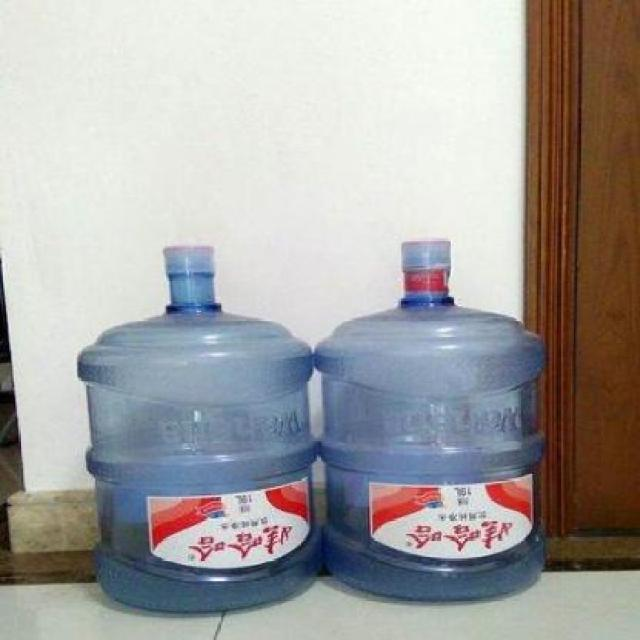coolerbottle: (71, 237, 323, 618), (312, 238, 550, 610)
